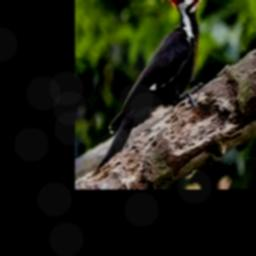Woodpecker: (95, 0, 224, 171)
